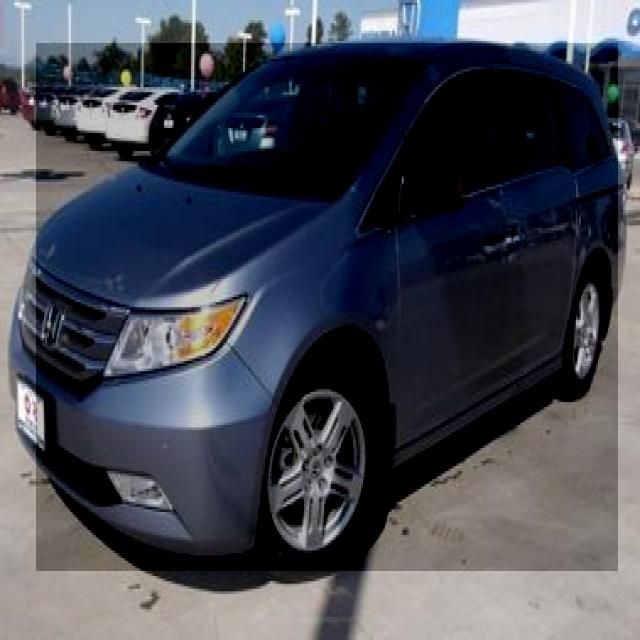Car: (36, 43, 618, 571)
